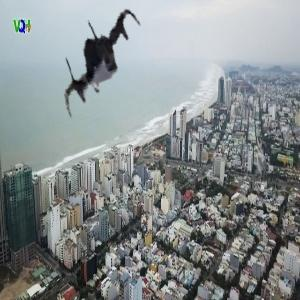drone: (45, 2, 154, 111)
